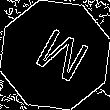M_SW: (22, 22, 88, 88)
